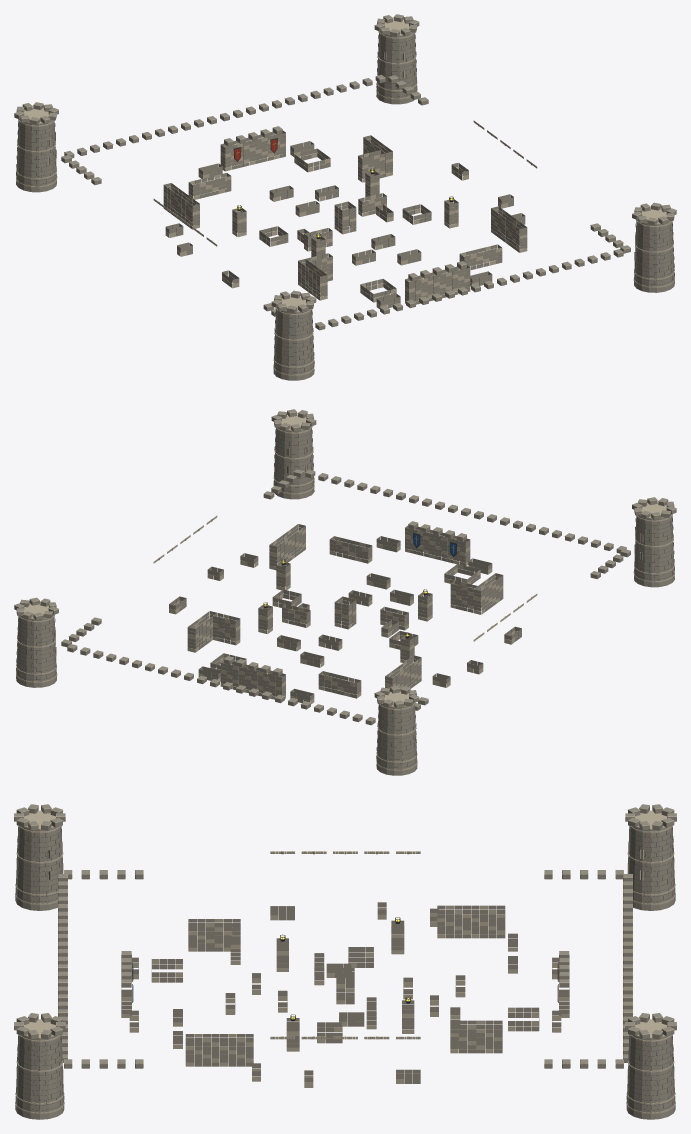
The model's file is fortress-kit.glb.
3 views of the same model, one above another, from view 1: azimuth 30°, elevation 25°; view 2: azimuth 150°, elevation 25°; view 3: azimuth 270°, elevation 25° (orthographic). The views are drawn at different scales.
Parts seen in each view (by area): view 1: Limestone, Carved pale stone, Recessed mortar and arrow slits; view 2: Limestone, Carved pale stone, Recessed mortar and arrow slits; view 3: Limestone, Carved pale stone, Recessed mortar and arrow slits.
Boxes of the visible parts, x1,y1,x2,y2 form: Limestone: [14, 14, 676, 380]; Carved pale stone: [14, 15, 676, 375]; Recessed mortar and arrow slits: [16, 33, 674, 372]; Limestone: [14, 409, 676, 775]; Carved pale stone: [14, 410, 676, 770]; Recessed mortar and arrow slits: [16, 428, 674, 767]; Limestone: [14, 804, 676, 1119]; Carved pale stone: [14, 805, 676, 1113]; Recessed mortar and arrow slits: [16, 827, 674, 1110].
Size of the model in its own units: 52.15 by 9.05 by 63.35.
